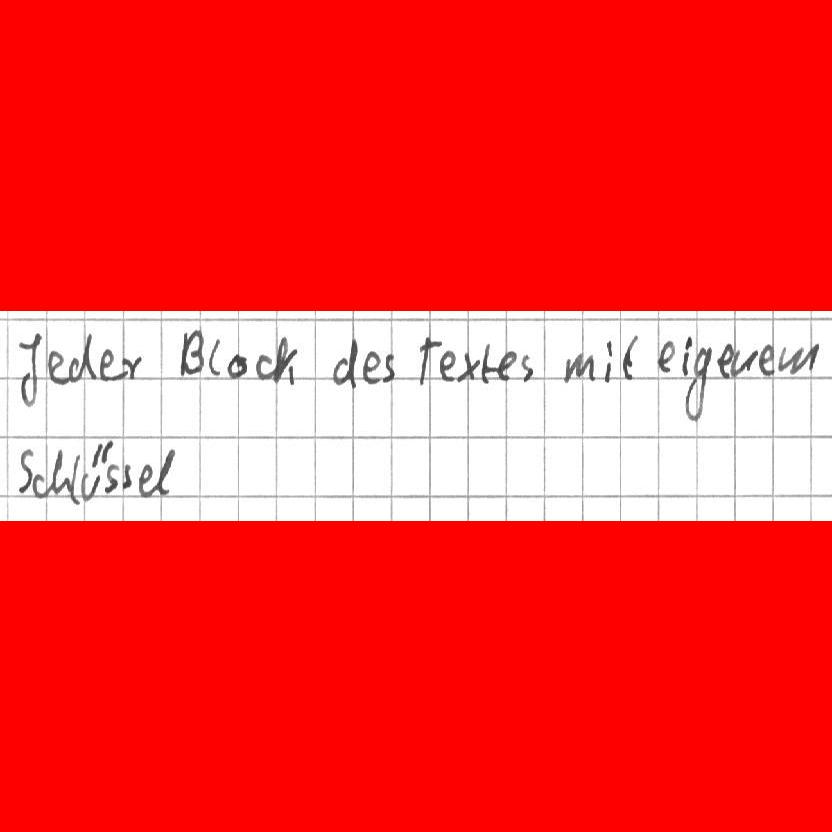Char: (13, 330, 43, 410), (684, 346, 712, 422), (778, 341, 824, 377), (52, 449, 80, 504), (331, 334, 359, 388), (178, 325, 203, 381), (82, 443, 105, 503), (152, 445, 176, 498), (414, 334, 437, 388), (274, 333, 296, 385), (72, 332, 94, 383), (563, 349, 594, 383), (620, 332, 638, 382), (15, 448, 34, 495), (476, 342, 494, 384), (361, 348, 381, 385), (46, 347, 66, 384), (733, 347, 756, 377), (495, 350, 516, 382), (136, 462, 154, 499), (98, 348, 118, 381), (438, 348, 458, 381), (118, 352, 141, 380), (658, 340, 676, 375), (208, 338, 224, 377), (253, 352, 273, 382), (717, 342, 733, 378), (458, 350, 476, 382), (226, 352, 247, 379), (758, 343, 775, 376), (105, 460, 123, 491), (31, 471, 50, 500), (603, 338, 615, 381), (519, 354, 536, 383), (382, 354, 398, 384), (681, 335, 692, 376), (120, 462, 133, 491)
